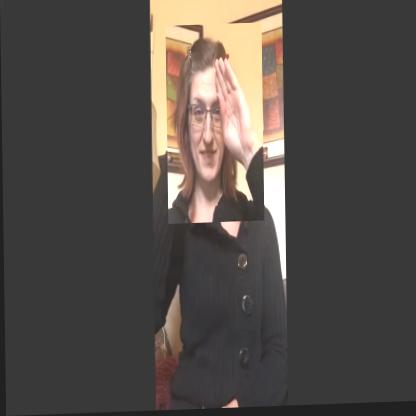Hello: (165, 24, 264, 225)
